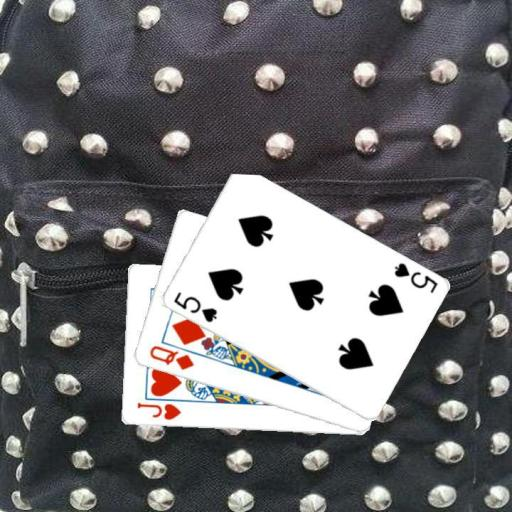5S: (390, 260, 439, 295), (170, 289, 218, 324)
JH: (134, 400, 182, 422)
QD: (146, 342, 196, 372)
